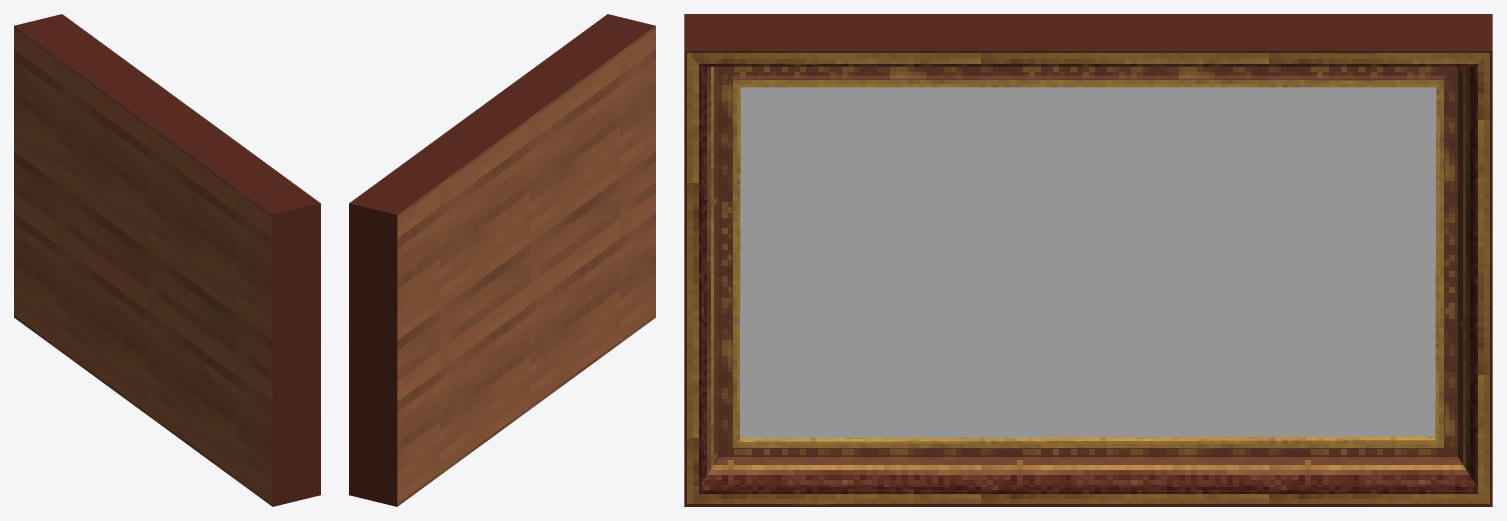
File: notreal-FancyFrame.fbx
3 renders of one model, left to right at view 1: azimuth 30°, elevation 25°; view 2: azimuth 150°, elevation 25°; view 3: azimuth 270°, elevation 25°, orthographic. The views are drawn at different scales.
Parts seen in each view (by area): view 1: FrameFancy.001; view 2: FrameFancy.001; view 3: FrameFancy.001.
Part boxes in pixels (x1,y1,x2,y2): FrameFancy.001: (14,14,320,506); FrameFancy.001: (349,14,655,506); FrameFancy.001: (684,14,1492,506).
Size of the model in its own units: 465 by 290 by 50.
